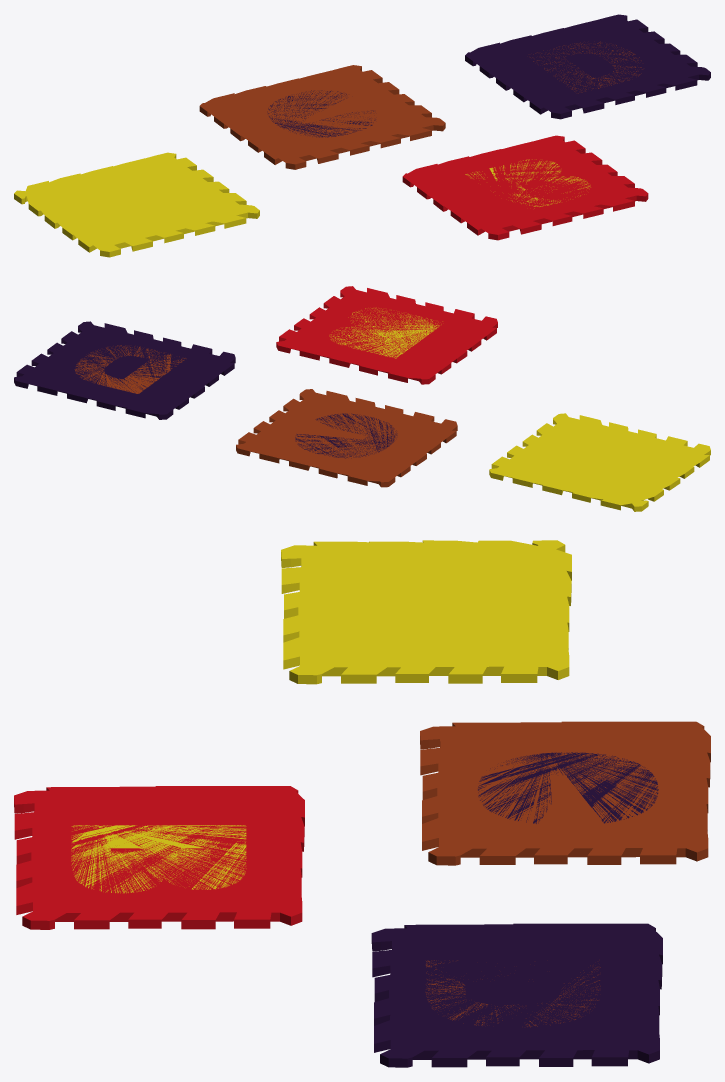
File: MSH_Tapete_Abecedario.FBX
3 views of the same model, one above another, from view 1: azimuth 30°, elevation 25°; view 2: azimuth 150°, elevation 25°; view 3: azimuth 270°, elevation 25° (orthographic). The views are drawn at different scales.
Visible parts, largest first — view 1: MSH_D, MSH_B, MSH_C, MSH_A; view 2: MSH_C, MSH_D, MSH_B, MSH_A; view 3: MSH_C, MSH_D, MSH_B, MSH_A.
Part boxes in pixels (left/top/right/bottom): MSH_D: left=465, top=14, right=710, bottom=119; MSH_B: left=402, top=135, right=648, bottom=240; MSH_C: left=199, top=65, right=445, bottom=169; MSH_A: left=14, top=152, right=259, bottom=257; MSH_C: left=236, top=389, right=457, bottom=487; MSH_D: left=14, top=321, right=235, bottom=419; MSH_B: left=276, top=286, right=497, bottom=384; MSH_A: left=489, top=413, right=710, bottom=511; MSH_C: left=420, top=721, right=710, bottom=865; MSH_D: left=371, top=923, right=662, bottom=1067; MSH_B: left=14, top=786, right=304, bottom=929; MSH_A: left=281, top=540, right=571, bottom=684.
Bounding box in the file's own units: 733 × 7.33 × 415.
